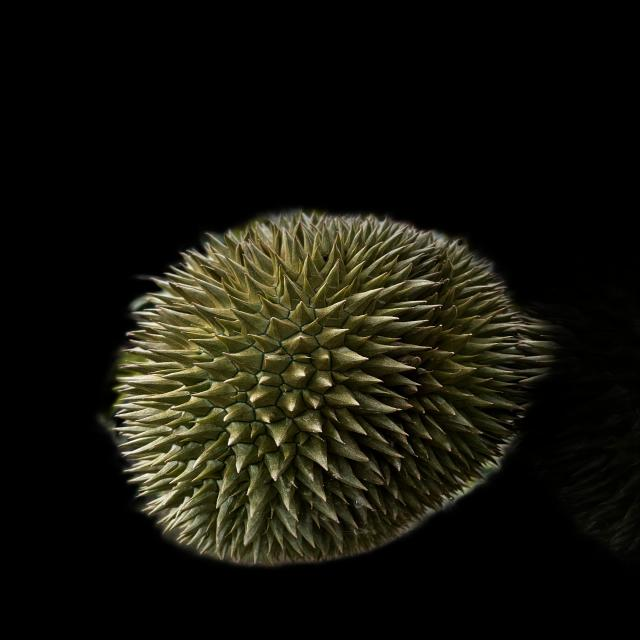immature: (105, 211, 536, 574)
